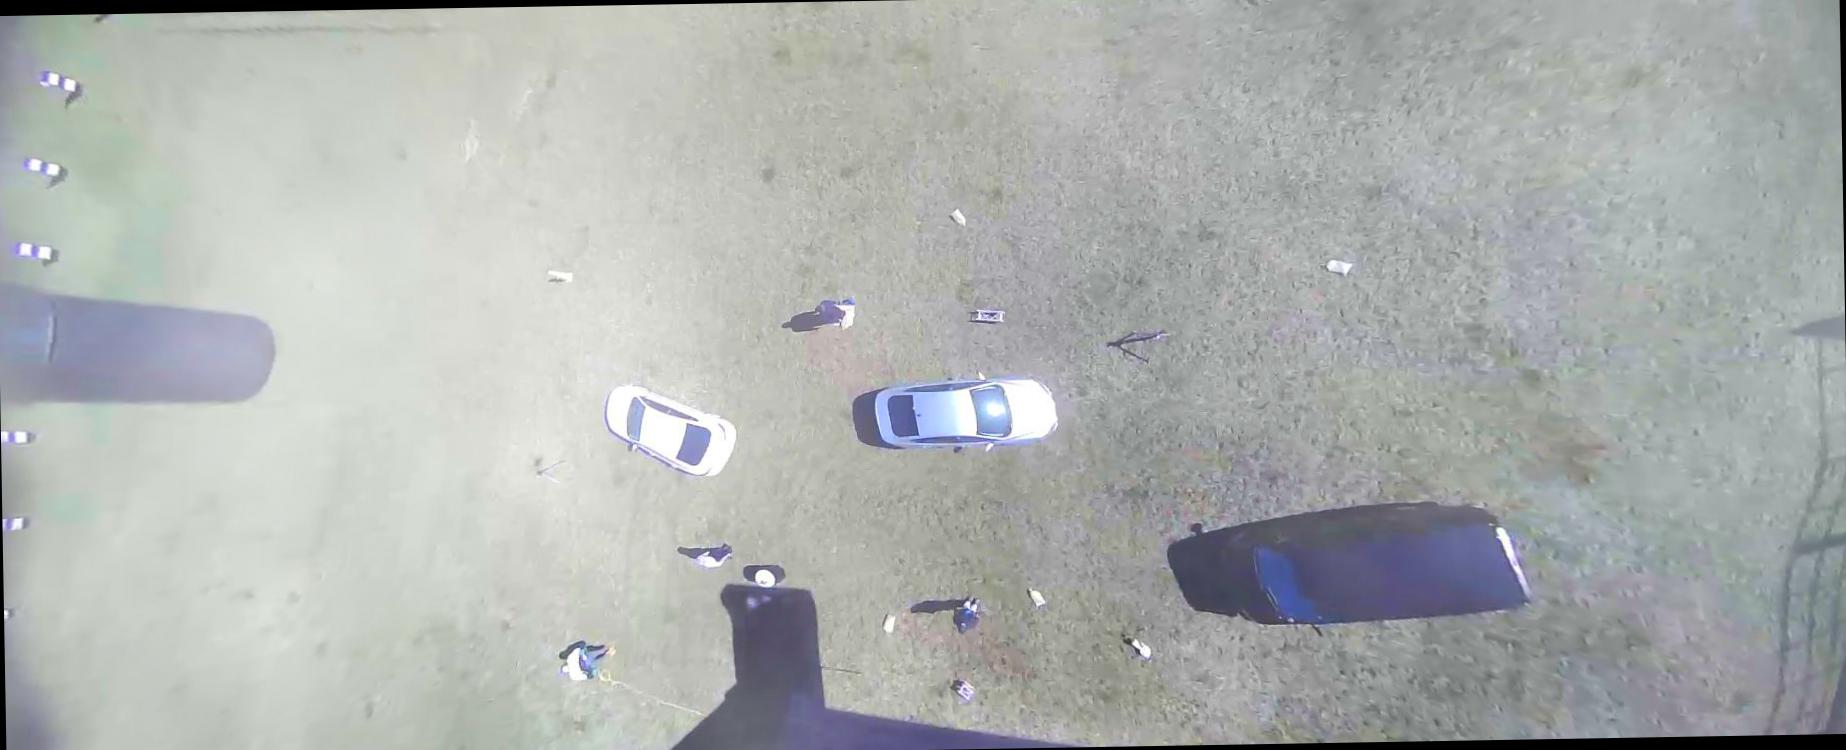vehicle: (1217, 503, 1534, 637), (874, 371, 1060, 453), (605, 381, 741, 479)
